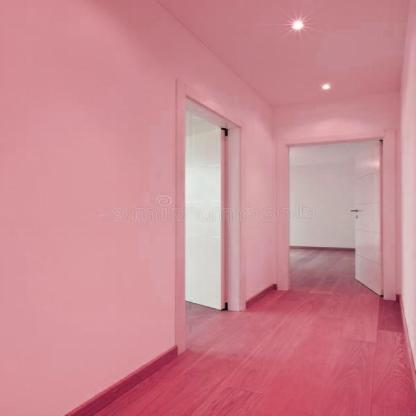door: (272, 124, 398, 303), (158, 75, 240, 338)
